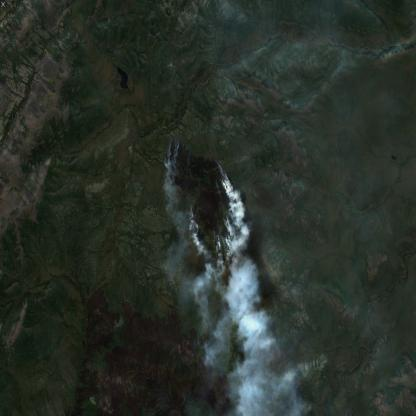fire: (162, 134, 240, 244)
